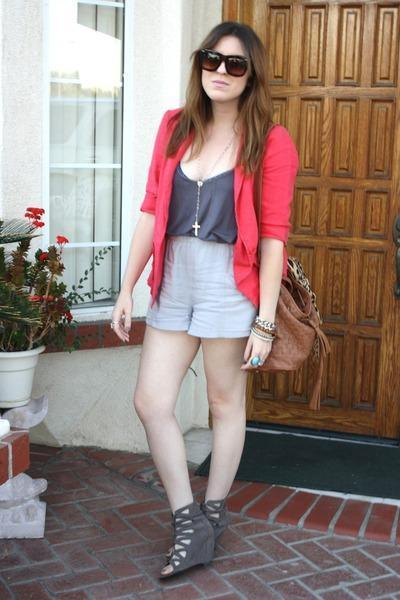bag: (259, 259, 329, 376)
jacket: (140, 126, 298, 307)
shirt: (161, 165, 237, 251)
shoe: (165, 494, 238, 558)
shorts: (137, 237, 253, 337)
sunglass: (213, 53, 246, 76)
